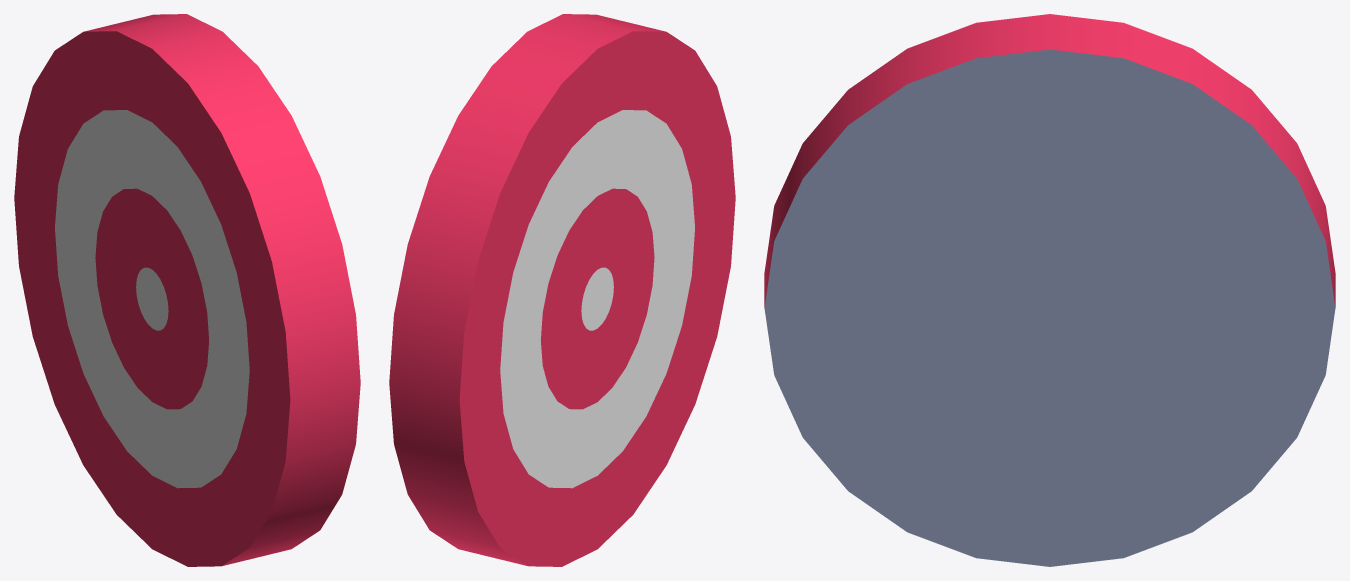
File: targetA.obj
3 views of the same model, side by side, from view 1: azimuth 30°, elevation 25°; view 2: azimuth 150°, elevation 25°; view 3: azimuth 270°, elevation 25° (orthographic). The views are drawn at different scales.
Parts seen in each view (by area): view 1: targetA; view 2: targetA; view 3: targetA.
Part boxes in pixels (x1,y1,x2,y2): targetA: [14, 14, 360, 566]; targetA: [389, 14, 735, 566]; targetA: [764, 14, 1335, 566].
Bounding box in the file's own units: 0.05 × 0.34 × 0.34.
